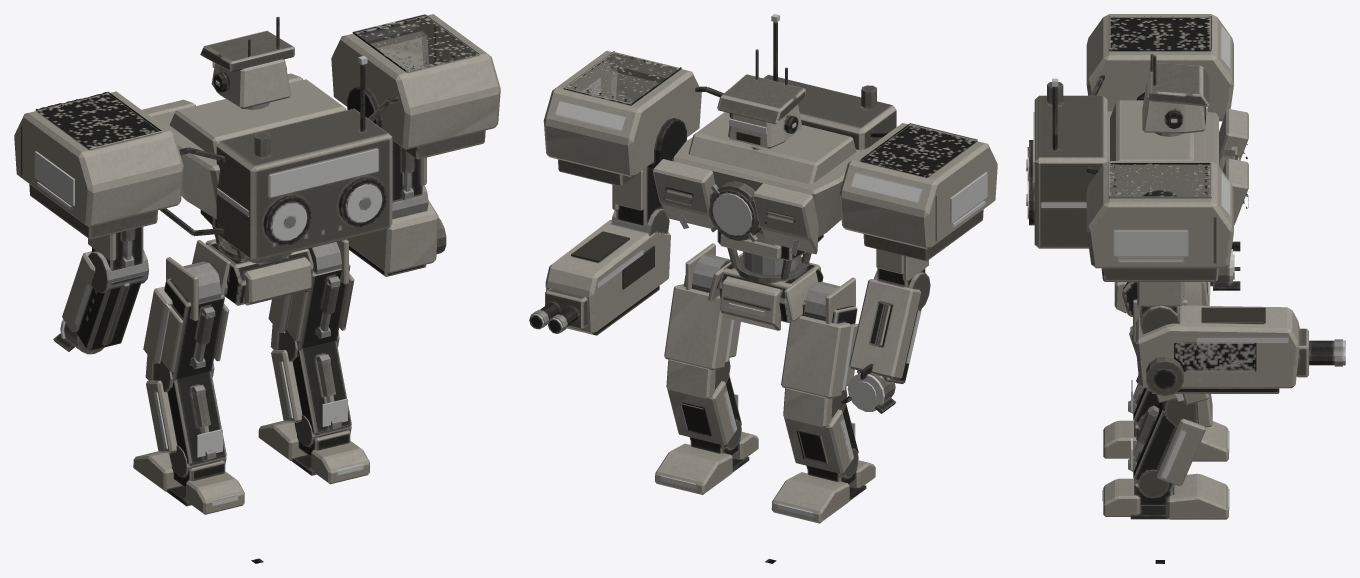
The model's file is ord_sovereign.fbx.
3 renders of one model, left to right at view 1: azimuth 30°, elevation 25°; view 2: azimuth 150°, elevation 25°; view 3: azimuth 270°, elevation 25°, orthographic. The views are drawn at different scales.
Parts seen in each view (by area): view 1: torso_bar, thighL_bar, head_bar, base_bar, thighR_bar, shinL_bar, shinR_bar, nano_bar, torso_glow_power_bar, forearmR_bar, footR_bar, footL_bar (+5 smaller); view 2: torso_bar, forearmR_bar, thighL_bar, thighR_bar, nano_bar, base_bar, head_bar, footL_bar, footR_bar, torso_glow_running_bar, shinL_bar, shinR_bar (+6 smaller); view 3: torso_bar, forearmR_bar, footR_bar, head_bar, shinR_bar, torso_glow_running_bar, footL_bar, armR_bar, thighR_bar, base_bar, shinL_bar, nano_bar (+1 smaller).
Boxes of the visible parts, left/top/right/bottom form: torso_bar: left=14, top=14, right=500, bottom=261; thighL_bar: left=143, top=278, right=229, bottom=392; head_bar: left=200, top=17, right=294, bottom=109; base_bar: left=192, top=239, right=313, bottom=305; thighR_bar: left=268, top=264, right=354, bottom=361; shinL_bar: left=146, top=371, right=226, bottom=465; shinR_bar: left=271, top=341, right=351, bottom=435; nano_bar: left=53, top=251, right=143, bottom=354; torso_glow_power_bar: left=269, top=149, right=382, bottom=240; forearmR_bar: left=346, top=200, right=446, bottom=276; footR_bar: left=258, top=415, right=369, bottom=484; footL_bar: left=133, top=446, right=244, bottom=514; torso_bar: left=543, top=21, right=997, bottom=281; forearmR_bar: left=529, top=219, right=670, bottom=335; thighL_bar: left=781, top=302, right=858, bottom=427; thighR_bar: left=664, top=275, right=740, bottom=398; nano_bar: left=841, top=279, right=921, bottom=413; base_bar: left=708, top=253, right=823, bottom=330; head_bar: left=717, top=49, right=805, bottom=149; footL_bar: left=771, top=448, right=875, bottom=523; footR_bar: left=655, top=420, right=758, bottom=494; torso_glow_running_bar: left=555, top=14, right=987, bottom=255; shinL_bar: left=783, top=404, right=858, bottom=477; shinR_bar: left=667, top=375, right=741, bottom=449; torso_bar: left=1026, top=14, right=1248, bottom=281; forearmR_bar: left=1135, top=305, right=1345, bottom=395; footR_bar: left=1103, top=469, right=1228, bottom=519; head_bar: left=1142, top=54, right=1209, bottom=136; shinR_bar: left=1128, top=402, right=1205, bottom=491; torso_glow_running_bar: left=1041, top=26, right=1230, bottom=262; footL_bar: left=1103, top=413, right=1228, bottom=461; armR_bar: left=1135, top=282, right=1184, bottom=334; thighR_bar: left=1129, top=326, right=1212, bottom=427; base_bar: left=1114, top=282, right=1209, bottom=316; shinL_bar: left=1128, top=375, right=1158, bottom=423; nano_bar: left=1210, top=241, right=1240, bottom=290.
Size of the model in its own units: 999 by 1240 by 698.
2 materials, 2 textured.
